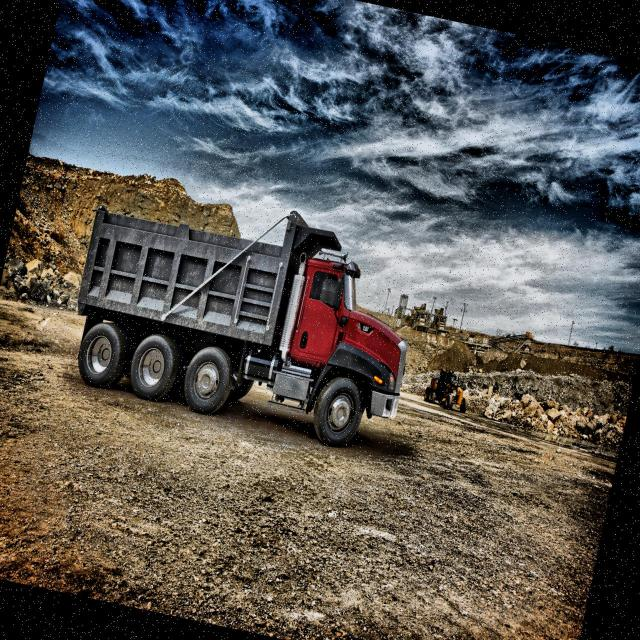dump_truck: (48, 160, 442, 472)
